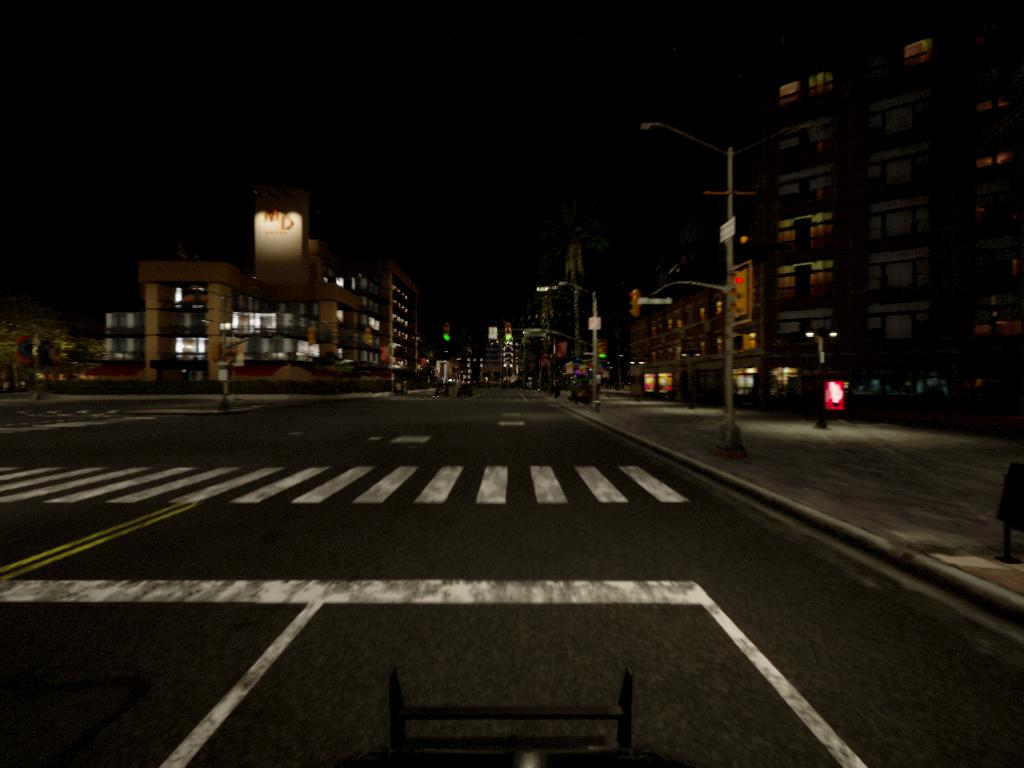traffic_light: (728, 269, 753, 325), (631, 290, 641, 318), (442, 324, 454, 345), (600, 340, 609, 361), (505, 324, 514, 344)
